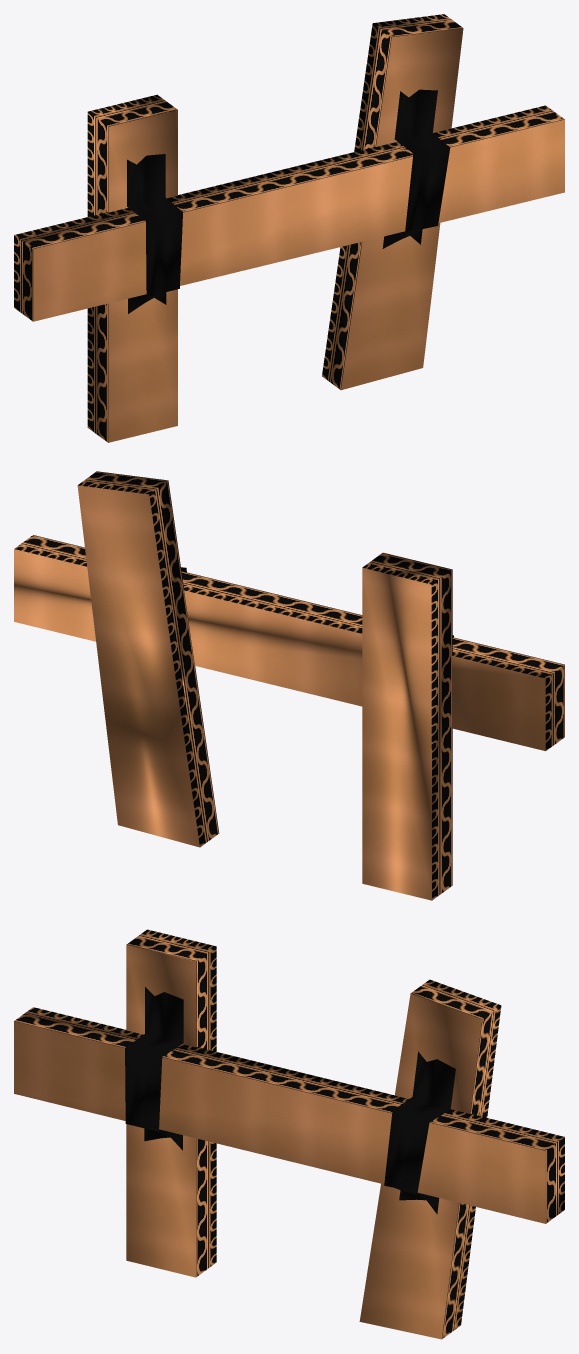
The model's file is M_Cardboard_Assets_Fence.fbx.
3 renders of one model, top to bottom at view 1: azimuth 30°, elevation 25°; view 2: azimuth 150°, elevation 25°; view 3: azimuth 330°, elevation 25°, orthographic.
Parts seen in each view (by area): view 1: Panels, Panels.002, Panels.001, Panels.003, Panels.004; view 2: Panels.002, Panels, Panels.001; view 3: Panels, Panels.002, Panels.001, Panels.003, Panels.004.
Boxes of the visible parts, <box> form: Panels: <box>14,105,564,321</box>; Panels.002: <box>322,14,463,390</box>; Panels.001: <box>87,94,177,442</box>; Panels.003: <box>127,154,182,313</box>; Panels.004: <box>382,89,450,248</box>; Panels.002: <box>77,471,219,847</box>; Panels: <box>14,535,564,751</box>; Panels.001: <box>362,552,452,900</box>; Panels: <box>14,1007,564,1223</box>; Panels.002: <box>359,979,501,1339</box>; Panels.001: <box>126,929,216,1277</box>; Panels.003: <box>125,987,183,1150</box>; Panels.004: <box>384,1051,455,1214</box>.
Bounding box in the file's own units: 4 × 2.45 × 0.5234.
